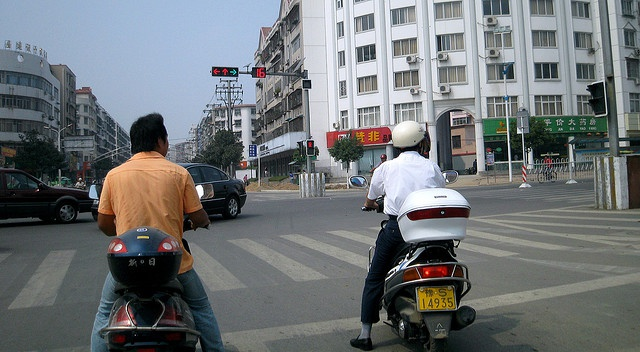non-vehicle: (383, 189, 477, 352), (97, 224, 198, 352)
